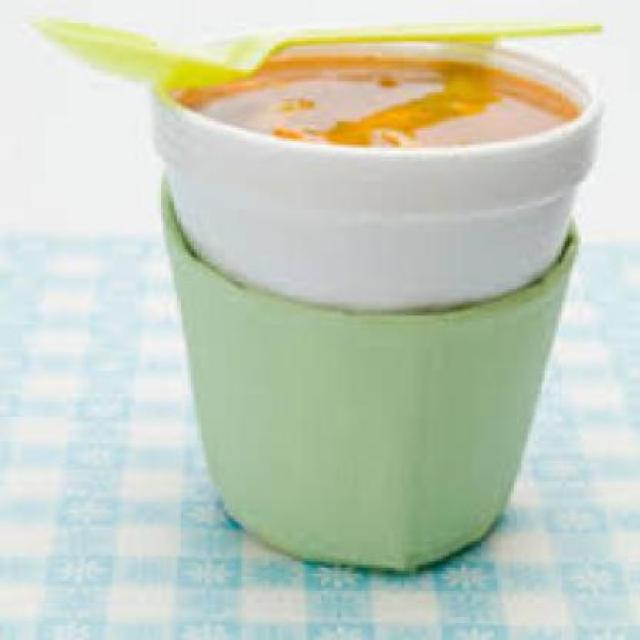paper: (154, 161, 578, 567), (149, 36, 593, 304)
plastic: (34, 10, 592, 78)
